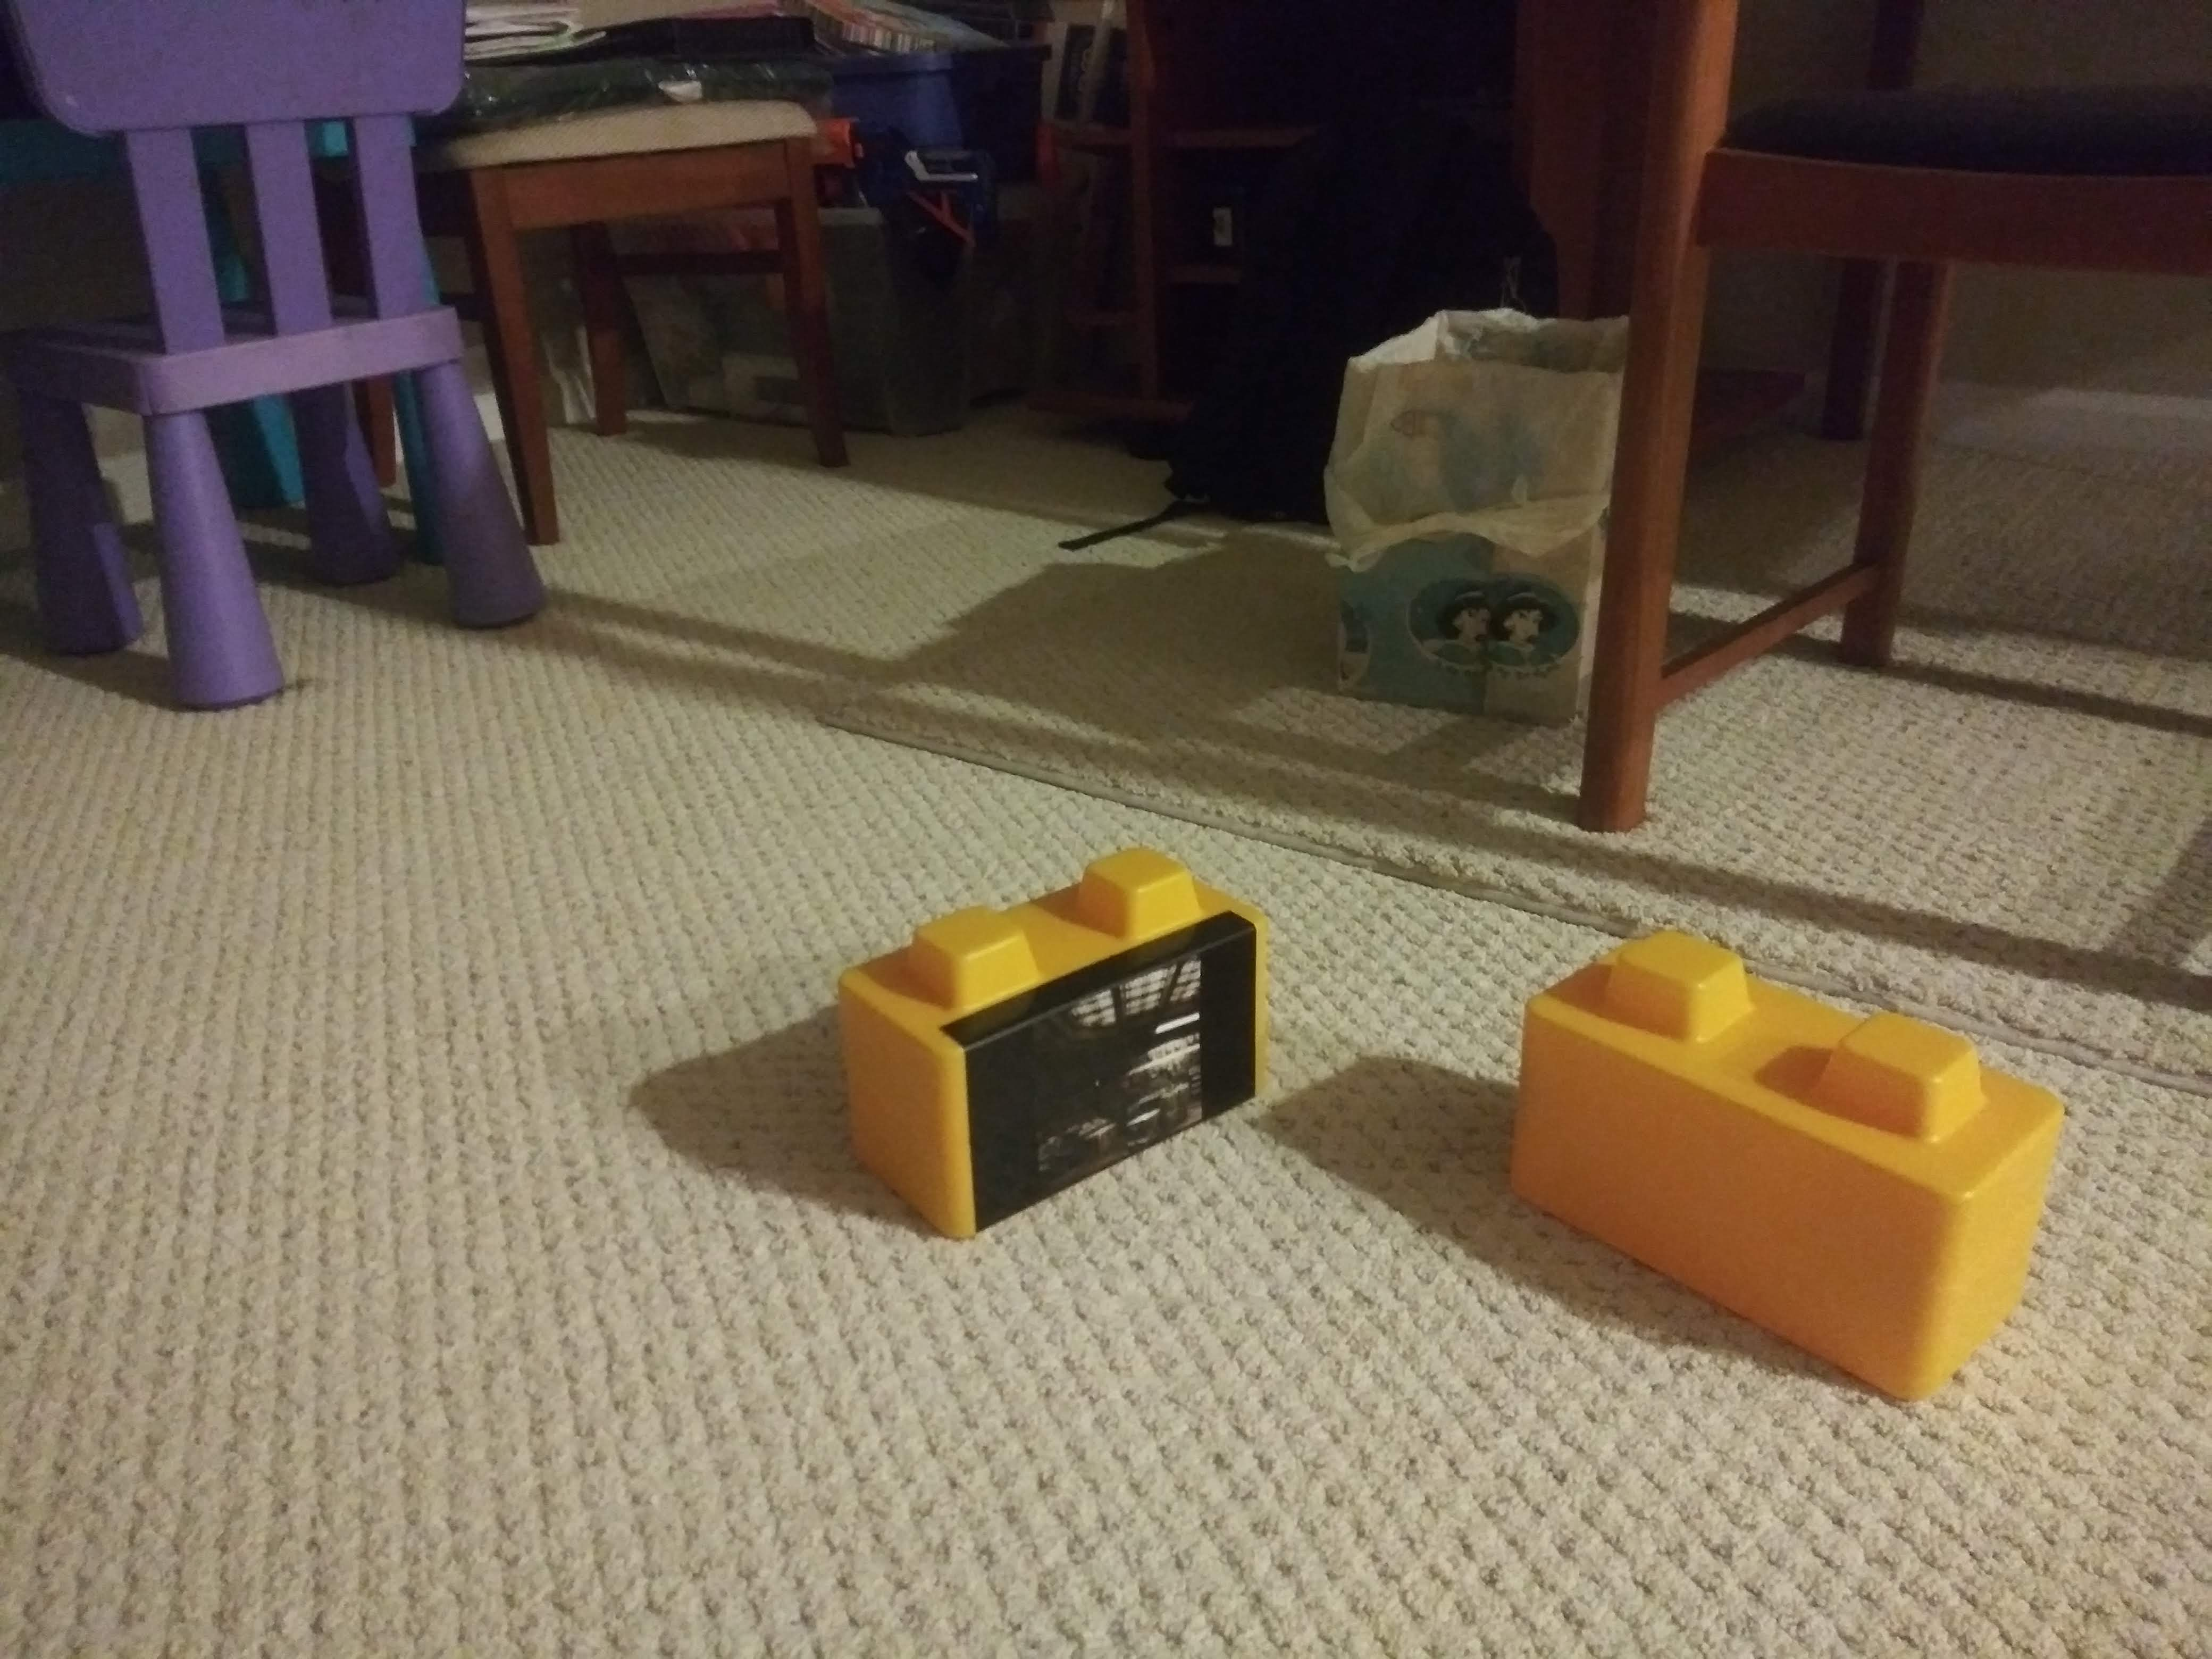skystone: (871, 904, 1264, 1182)
stone: (1524, 951, 2036, 1364)
